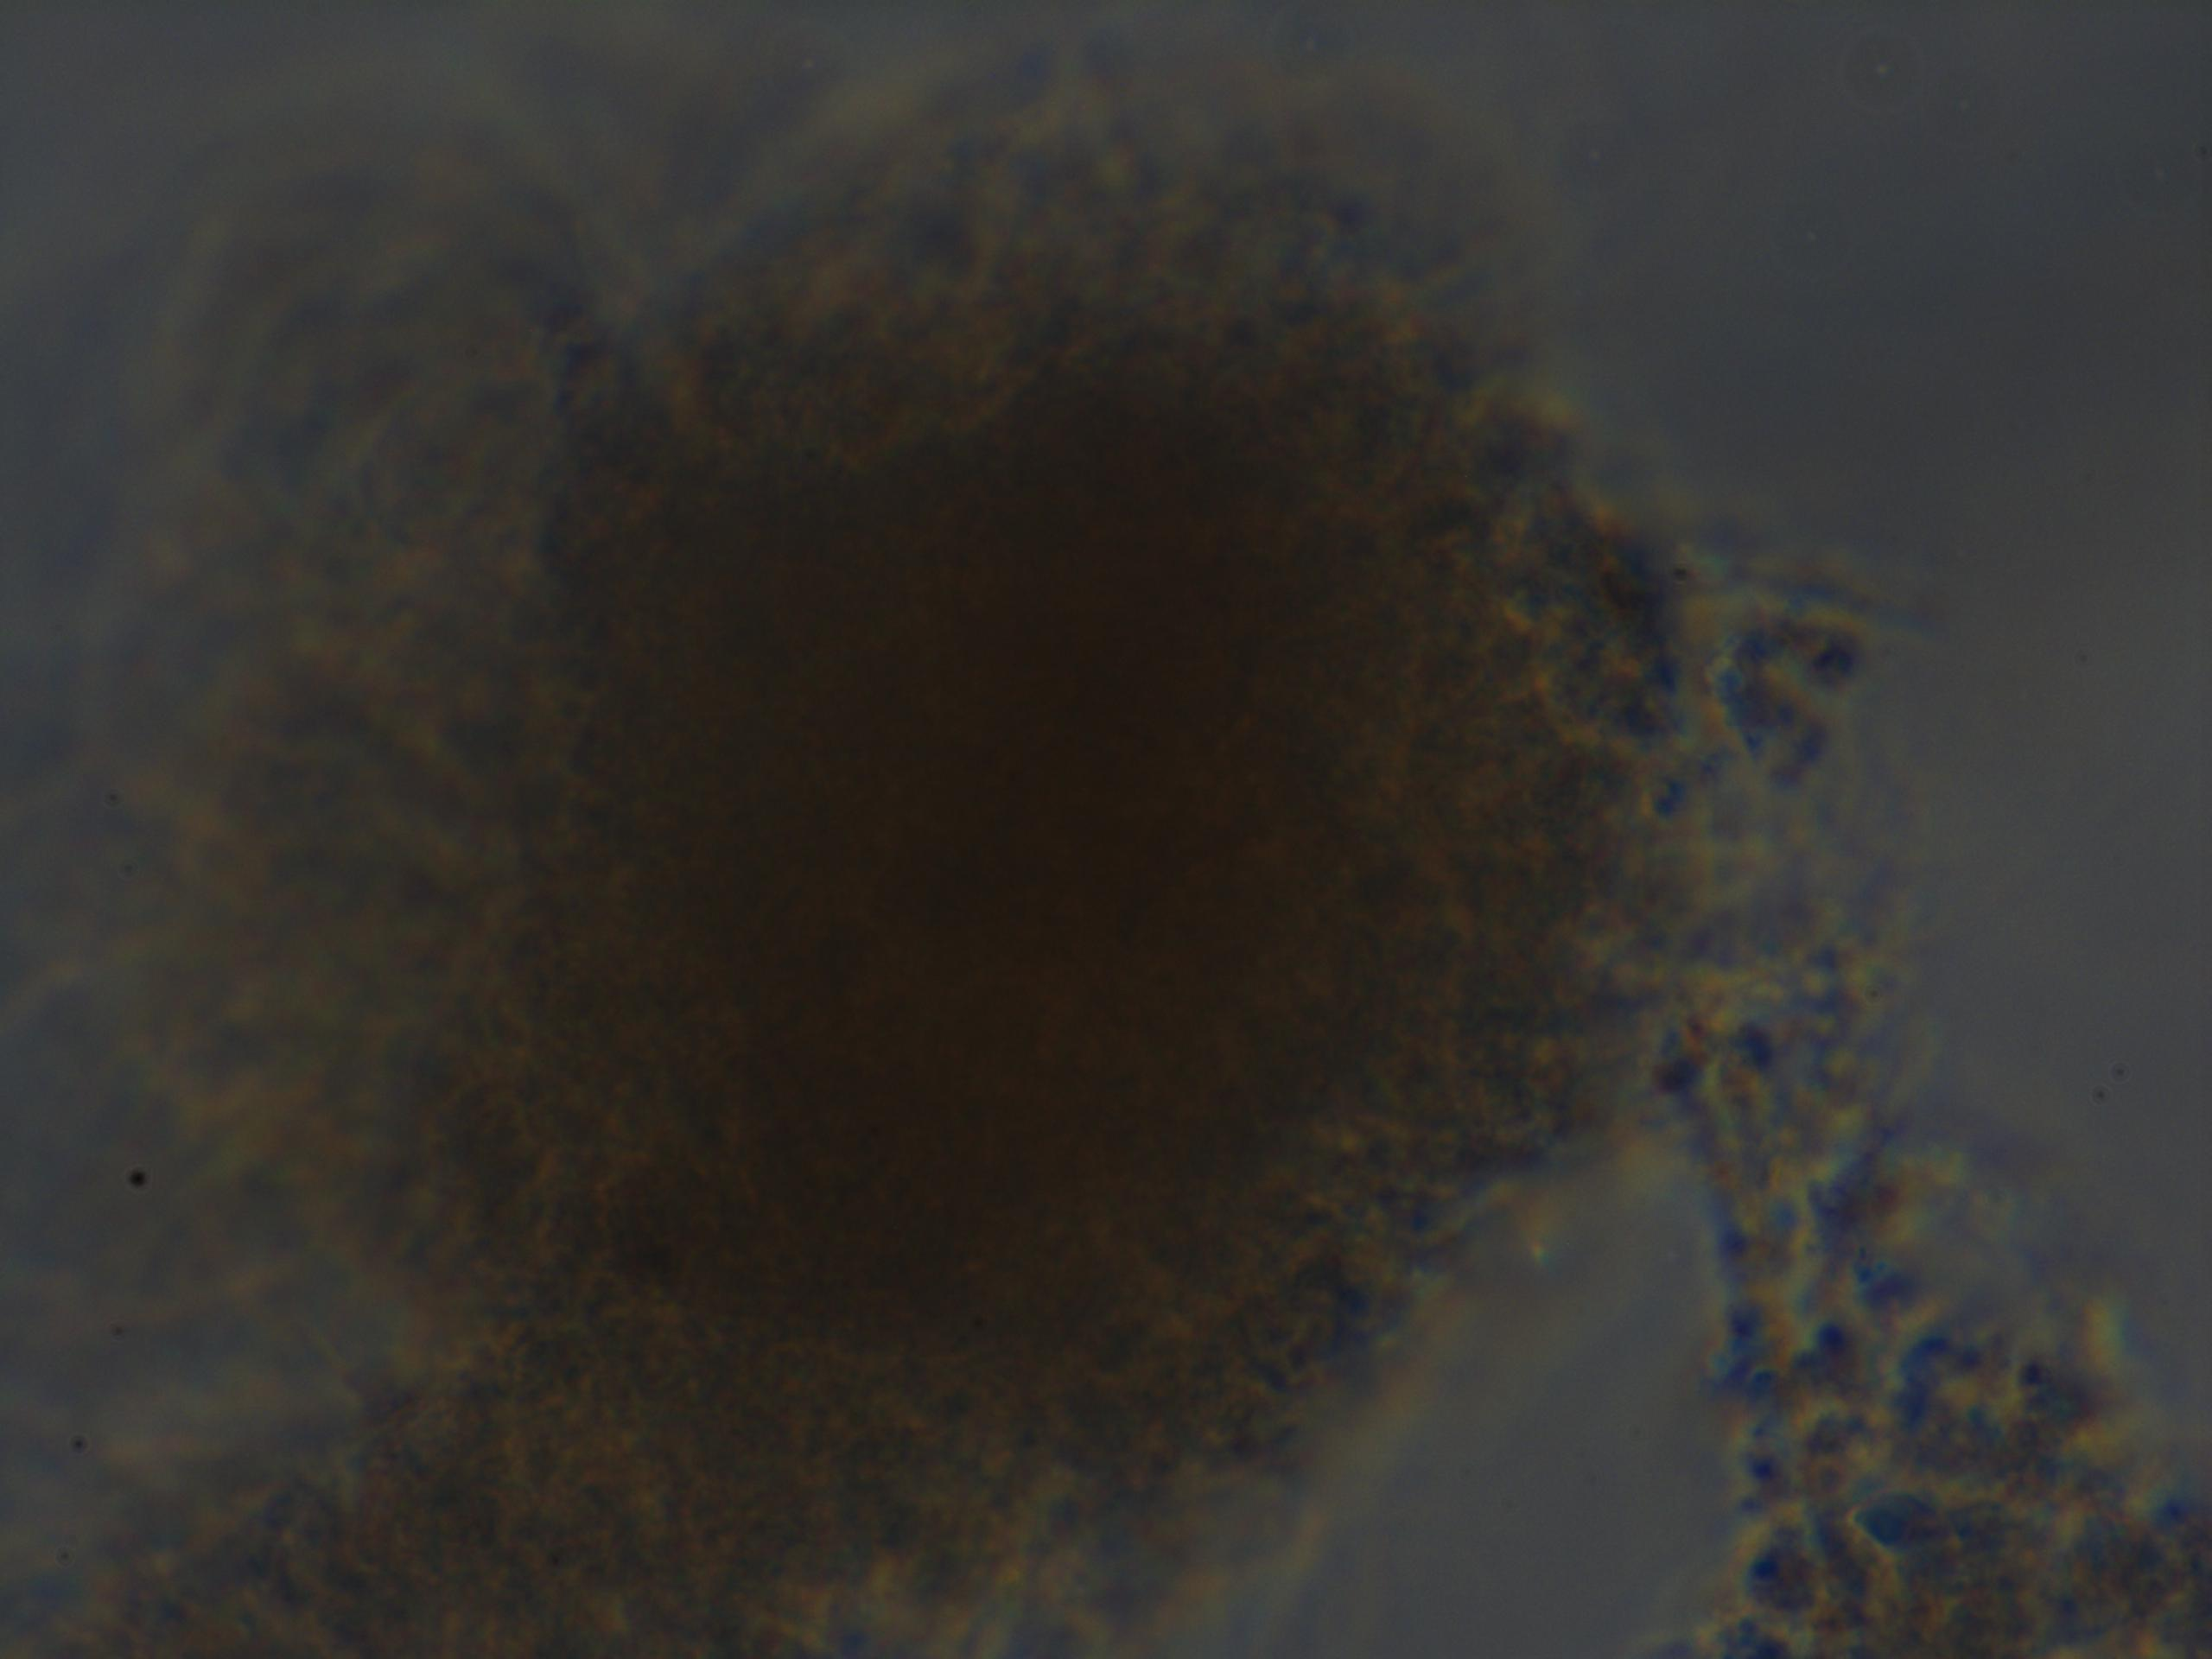spherical_floc: (174, 129, 1719, 1642)
